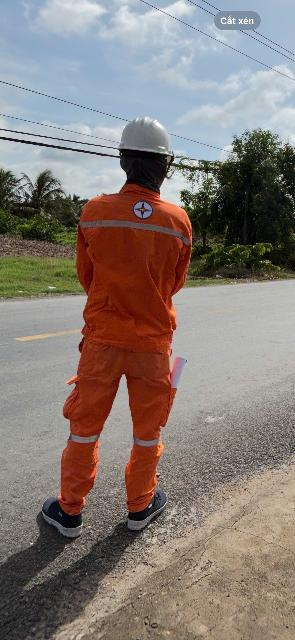helmet: (103, 103, 188, 166)
shoes: (31, 483, 93, 548), (119, 478, 180, 532)
